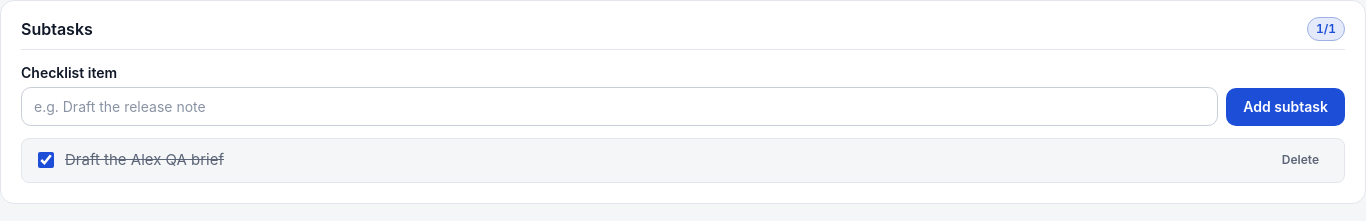
ChecklistPanel › unticks an item again
Click the checkbox labelled "Draft the Alex QA brief" at (46, 160), box [38, 152, 54, 168]
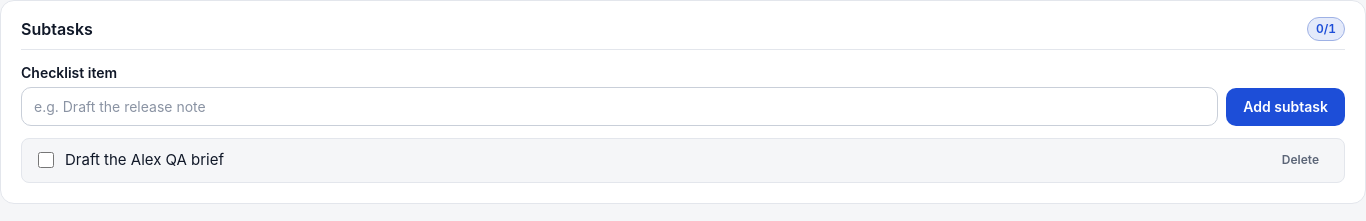
expect the text with test id "checklist-progress" reads "0/1": met, box [1316, 21, 1336, 36]
